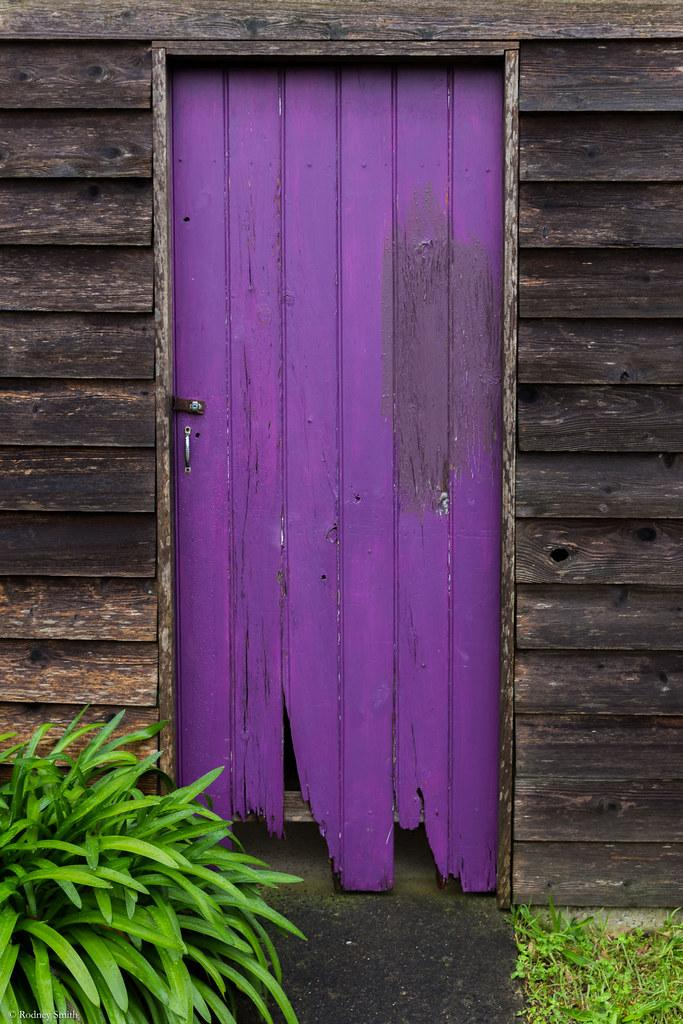door: (169, 55, 506, 896)
